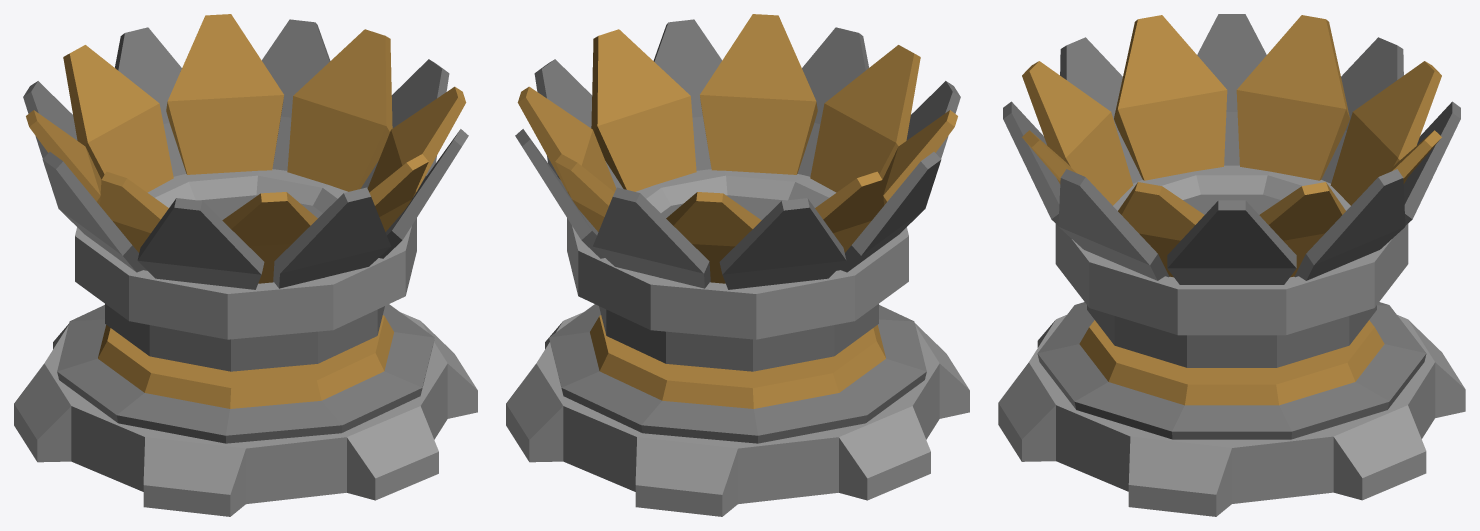
Rendered from Props_Teleporter_1.glb.
The picture shows the model from 3 angles, left to right: view 1: azimuth 30°, elevation 25°; view 2: azimuth 150°, elevation 25°; view 3: azimuth 270°, elevation 25°; orthographic projection.
Visible parts, largest first — view 1: Props_Teleporter_1; view 2: Props_Teleporter_1; view 3: Props_Teleporter_1.
Part boxes in pixels (<box>): Props_Teleporter_1: <box>14,14,477,516</box>; Props_Teleporter_1: <box>506,14,969,516</box>; Props_Teleporter_1: <box>998,14,1465,516</box>.
Size of the model in its own units: 0.41 by 0.3075 by 0.41.
